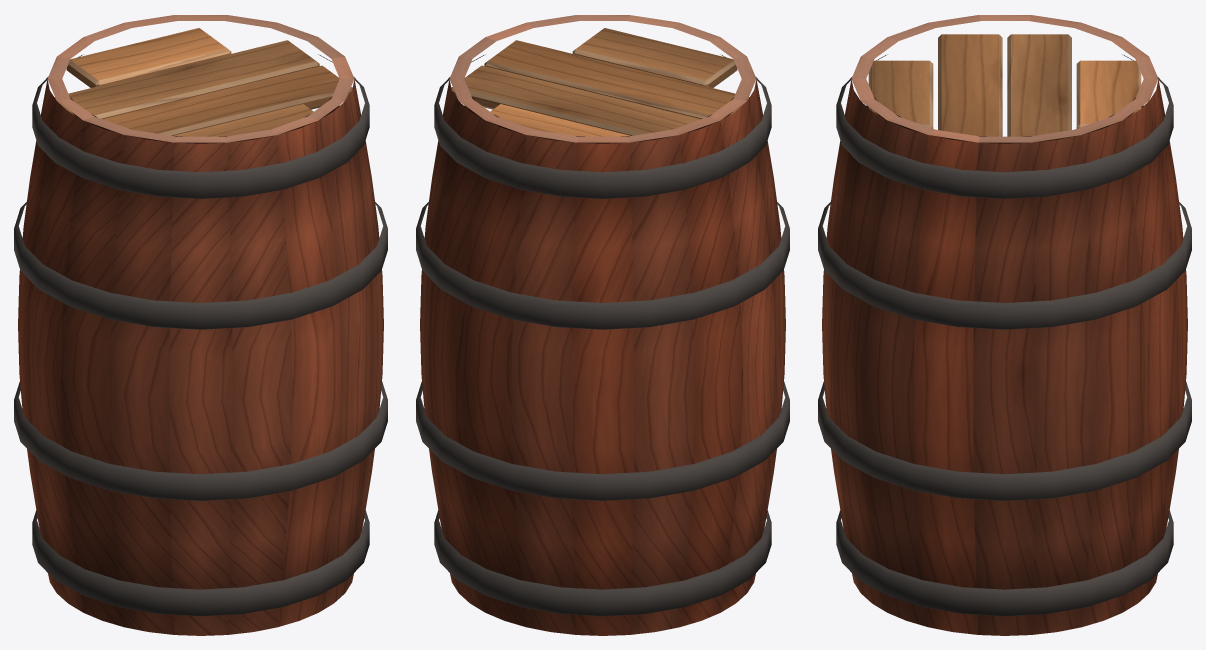
File: barrel.glb
3 renders of one model, left to right at view 1: azimuth 30°, elevation 25°; view 2: azimuth 150°, elevation 25°; view 3: azimuth 270°, elevation 25°, orthographic.
Visible parts, largest first — view 1: body; view 2: body; view 3: body.
Part boxes in pixels (x1=…): body: x1=14, y1=15, x2=387, y2=635; body: x1=416, y1=15, x2=789, y2=635; body: x1=818, y1=15, x2=1191, y2=635.
Bounding box in the file's own units: 0.6334 × 0.92 × 0.6334.
2 materials, 1 textured.
